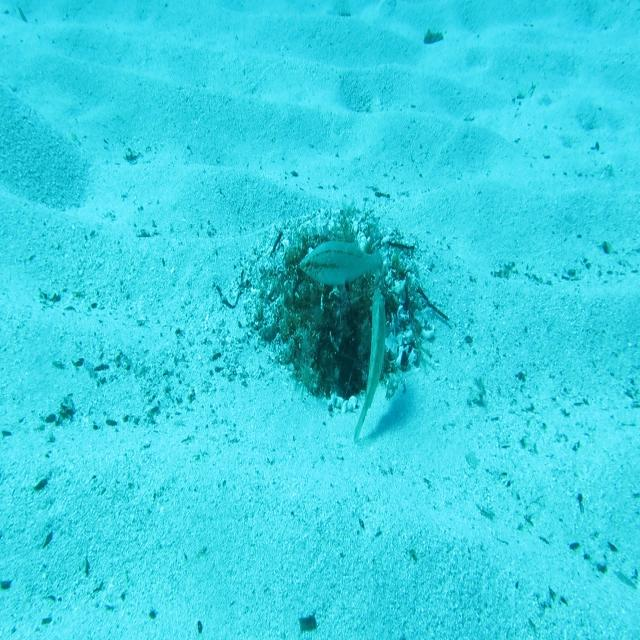GB: (352, 286, 400, 442)
female: (297, 238, 389, 288)
nest: (232, 197, 443, 436)
vegetation: (298, 614, 318, 631), (420, 32, 447, 44)
